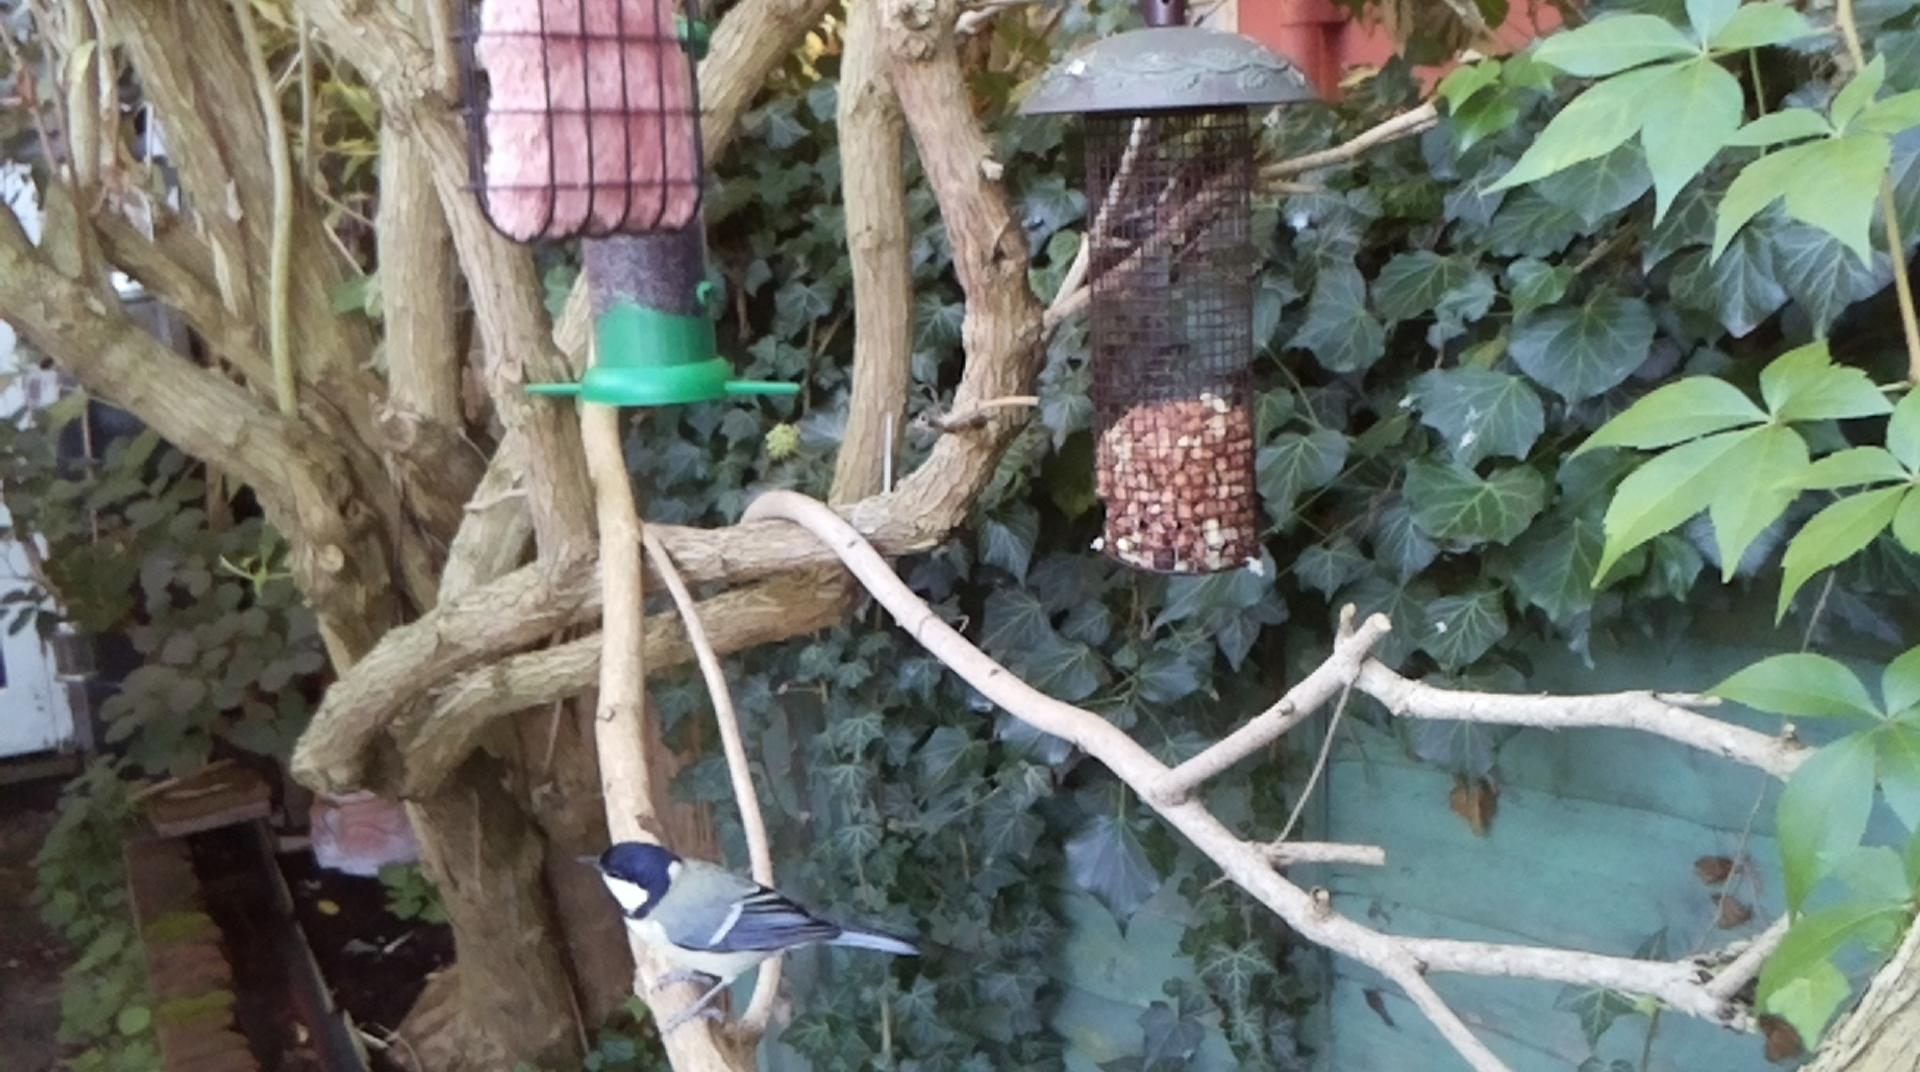great tit: (572, 840, 924, 1038)
